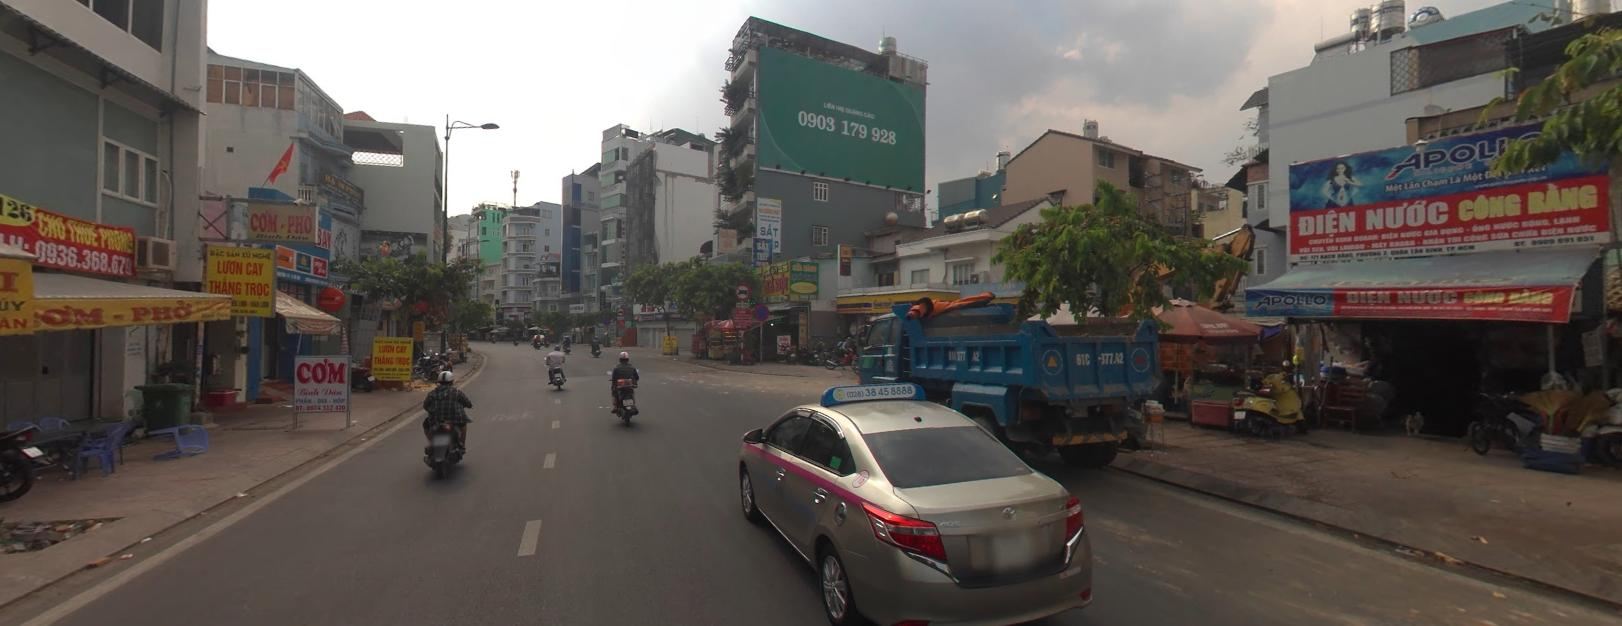Cam con lai: (734, 280, 750, 298), (615, 305, 624, 312)
Cam dung va do: (753, 301, 768, 319), (601, 316, 610, 324)
